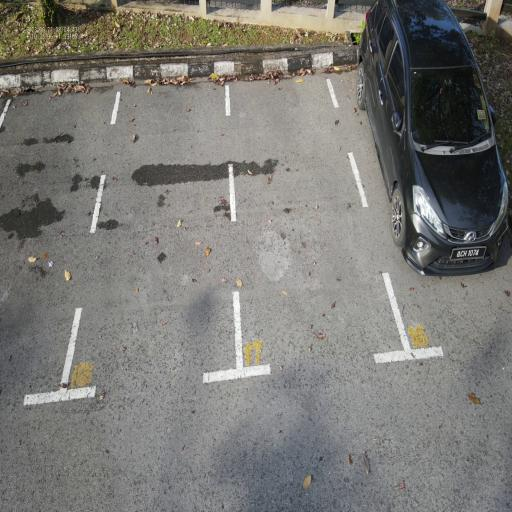Empty: (56, 68, 248, 408), (222, 68, 416, 382)
